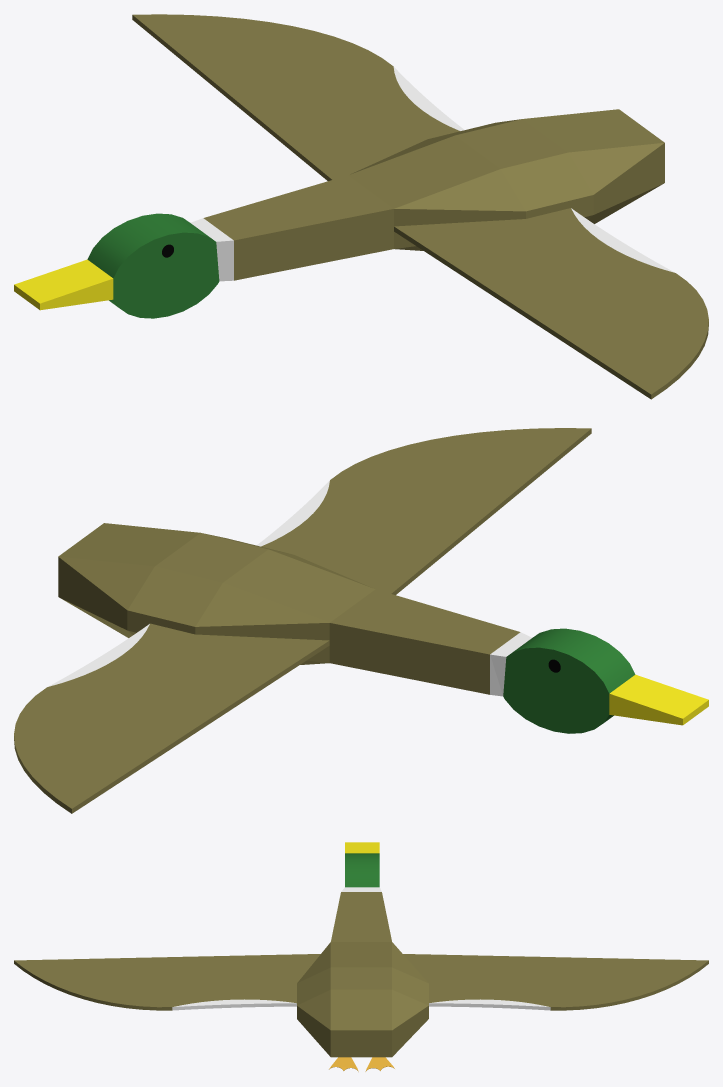
File: duck_model.fbx
3 renders of one model, top to bottom at view 1: azimuth 30°, elevation 25°; view 2: azimuth 150°, elevation 25°; view 3: azimuth 270°, elevation 25°, orthographic. The views are drawn at different scales.
Parts seen in each view (by area): view 1: Body1, Left_Wing1, Right_Wing1; view 2: Body1, Right_Wing1, Left_Wing1; view 3: Body1, Left_Wing1, Right_Wing1.
Boxes of the visible parts, <box> form: Body1: <box>14,109,664,318</box>; Left_Wing1: <box>394,208,708,399</box>; Right_Wing1: <box>132,14,464,180</box>; Body1: <box>58,523,708,733</box>; Right_Wing1: <box>14,623,329,813</box>; Left_Wing1: <box>256,428,591,594</box>; Body1: <box>297,842,428,1071</box>; Left_Wing1: <box>14,954,320,1010</box>; Right_Wing1: <box>403,954,708,1010</box>.
Size of the model in its own units: 107 by 20.01 by 156.
